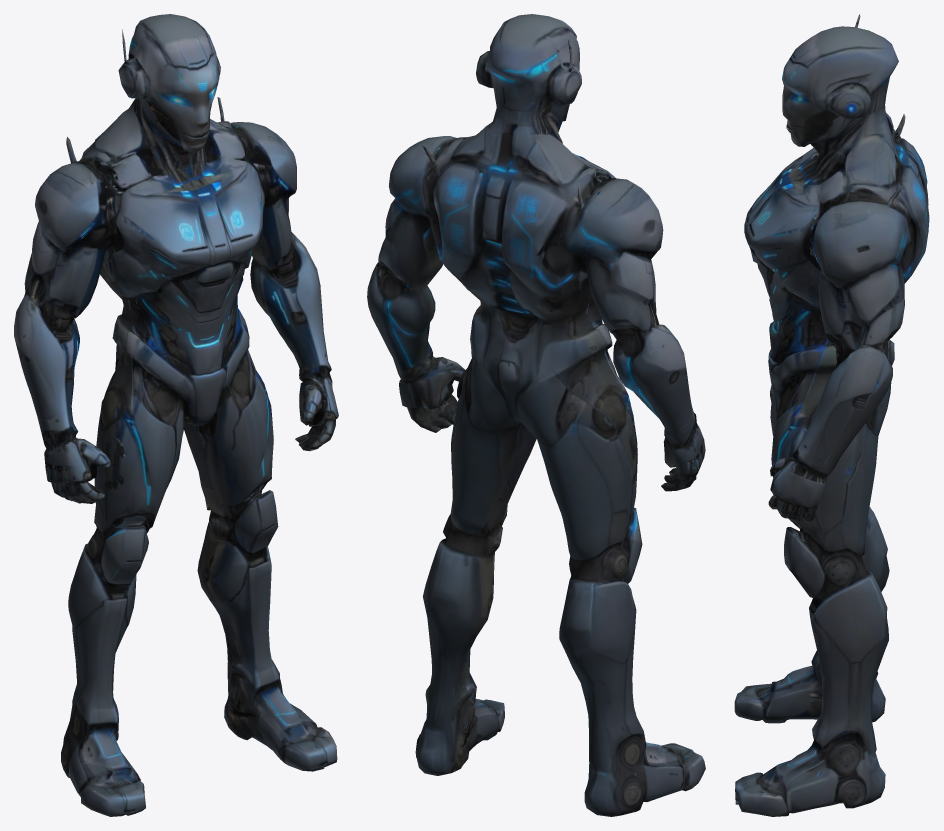
Rendered from astra.glb.
3 views of the same model, side by side, from view 1: azimuth 30°, elevation 25°; view 2: azimuth 150°, elevation 25°; view 3: azimuth 270°, elevation 25° (orthographic). The views are drawn at different scales.
Parts seen in each view (by area): view 1: Mesh1; view 2: Mesh1; view 3: Mesh1.
Boxes of the visible parts, box(x1,y1,x2,y2) form: Mesh1: box(14, 14, 338, 816); Mesh1: box(367, 14, 705, 816); Mesh1: box(734, 14, 929, 816).
Bounding box in the file's own units: 0.8446 × 2 × 0.4856.
Materials: 1 (1 with a texture image).
